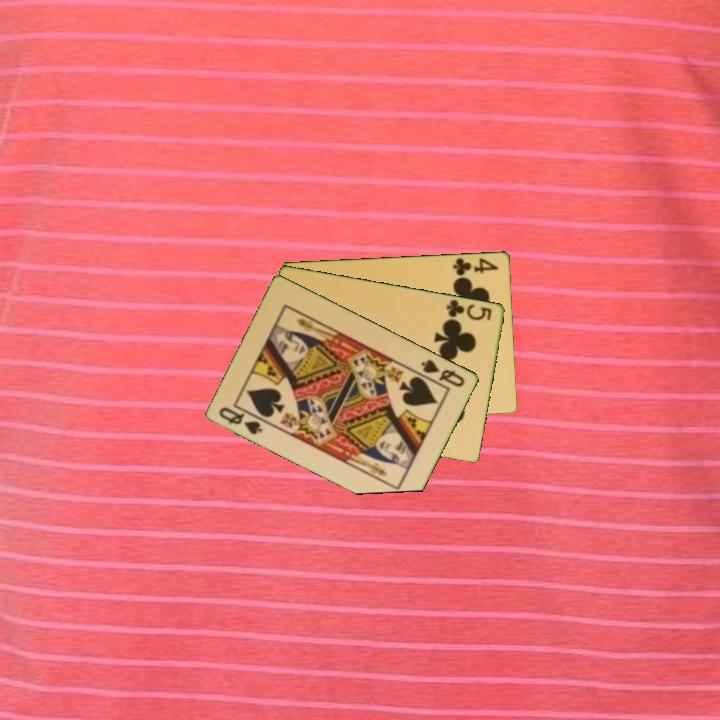4c: (450, 254, 501, 278)
5c: (443, 296, 495, 323)
Qs: (215, 403, 266, 437), (418, 356, 468, 390)
